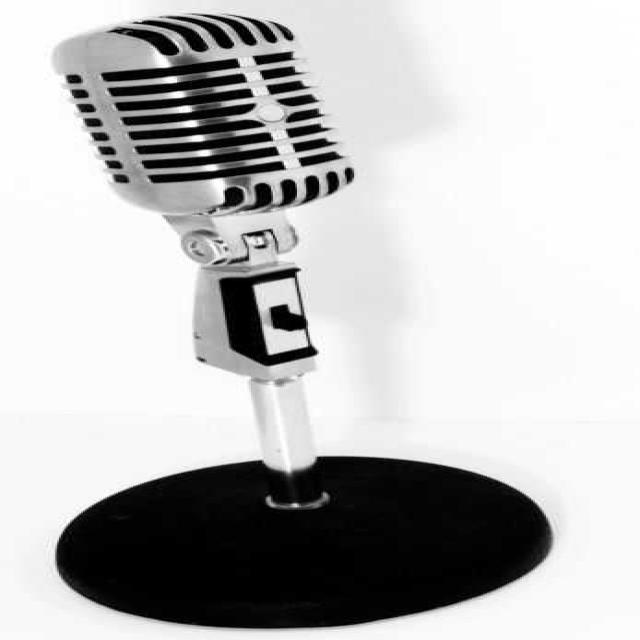microphone: (49, 13, 348, 224)
